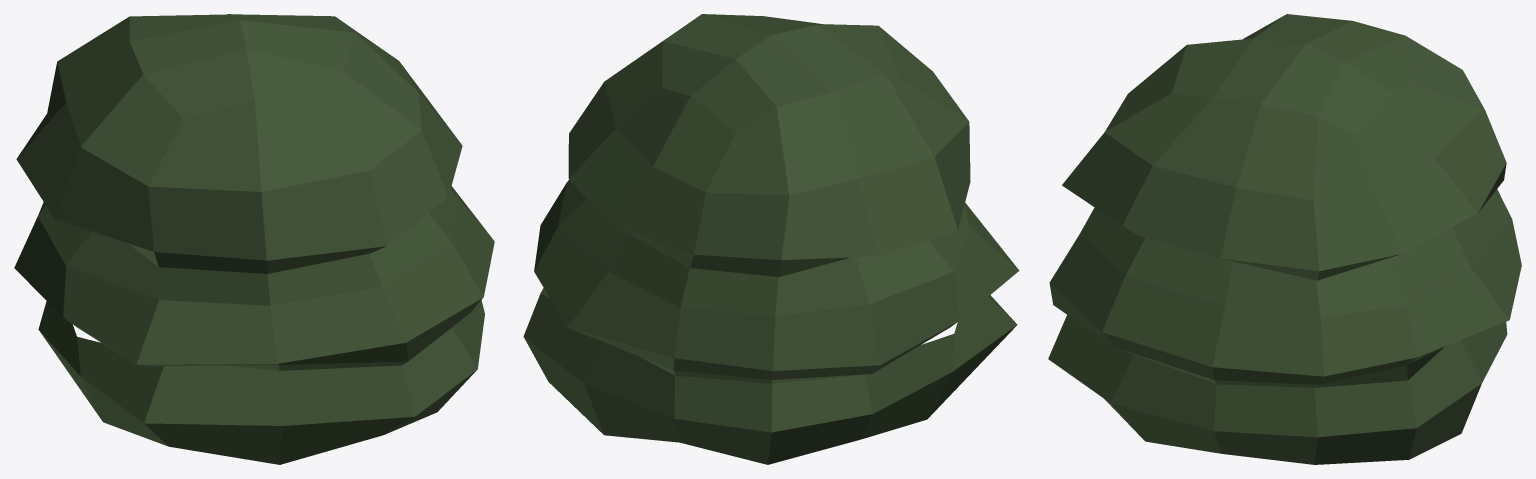
File: bush_b.glb
3 renders of one model, left to right at view 1: azimuth 30°, elevation 25°; view 2: azimuth 150°, elevation 25°; view 3: azimuth 270°, elevation 25°, orthographic. The views are drawn at different scales.
Visible parts, largest first — view 1: bush_b; view 2: bush_b; view 3: bush_b.
Part boxes in pixels (x1,y1,x2,y2): bush_b: (14,14,494,464); bush_b: (523,14,1019,464); bush_b: (1048,14,1521,464).
Size of the model in its own units: 3.09 by 2.67 by 3.23.
